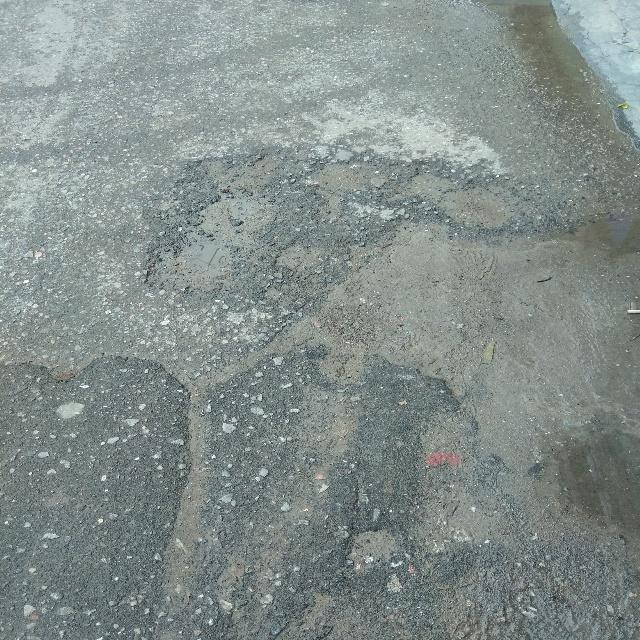Surface Erosion: (58, 113, 627, 546)
